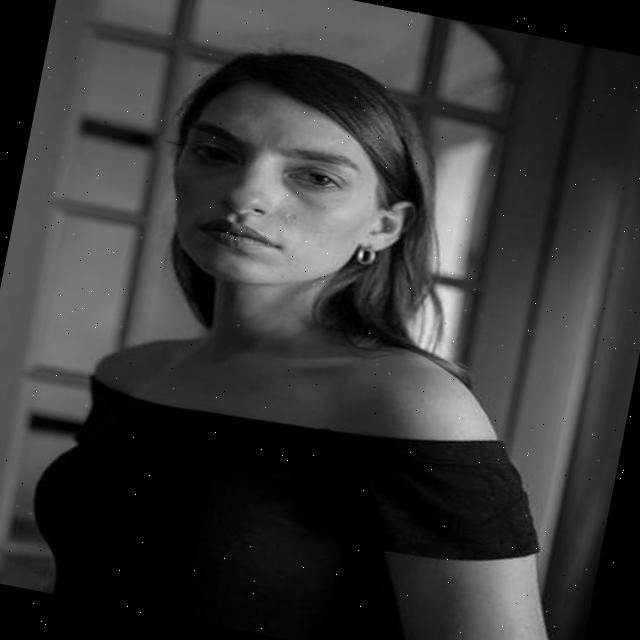Sadness: (158, 80, 380, 300)
